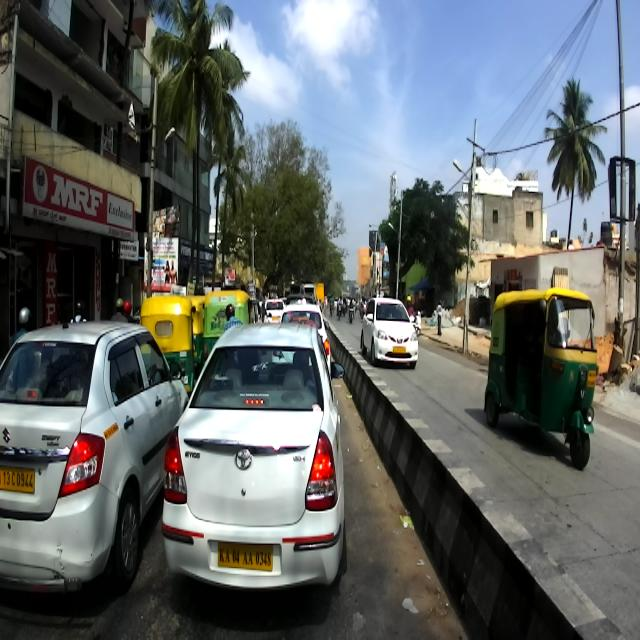auto ahead at: (478, 285, 603, 472)
car ahead at: (0, 310, 192, 591), (166, 319, 346, 610)
